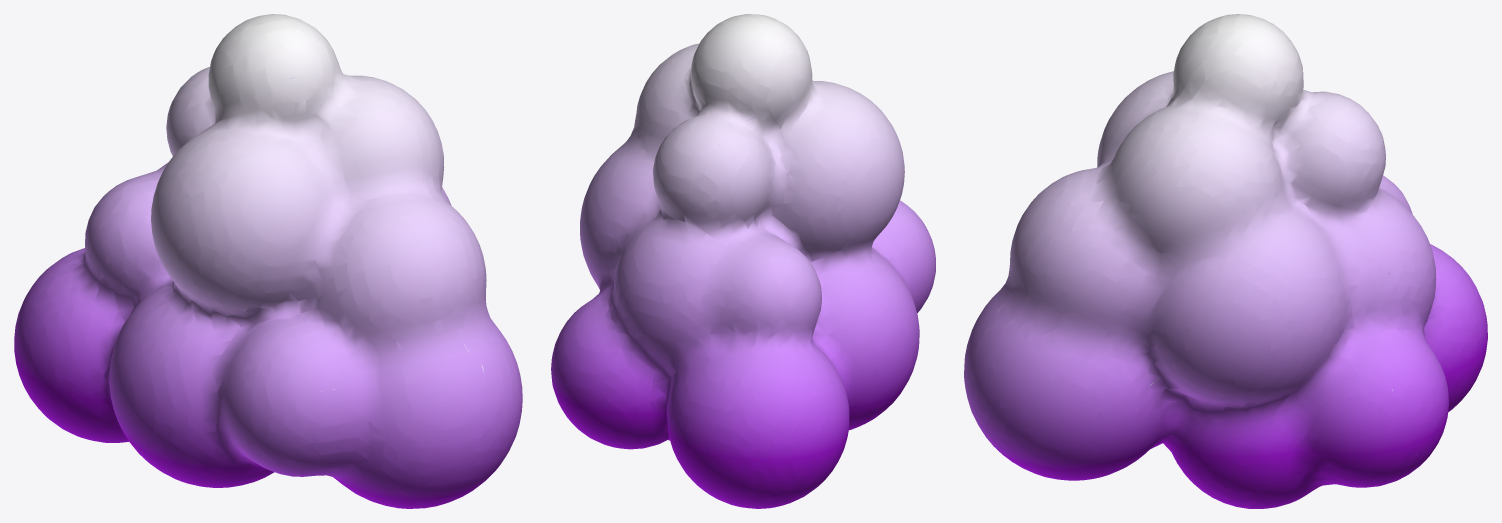
Rendered from nubejonas2.glb.
3 views of the same model, side by side, from view 1: azimuth 30°, elevation 25°; view 2: azimuth 150°, elevation 25°; view 3: azimuth 270°, elevation 25° (orthographic). The views are drawn at different scales.
Parts seen in each view (by area): view 1: Mball.008; view 2: Mball.008; view 3: Mball.008.
Part boxes in pixels (x1,y1,x2,y2): Mball.008: (14,14,522,508); Mball.008: (551,14,935,508); Mball.008: (964,14,1487,508).
Size of the model in its own units: 2.9 by 3.75 by 3.91.
Materials: 1 (1 with a texture image).
